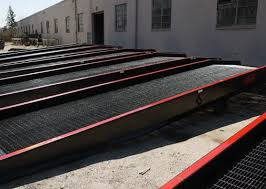Yard Ramp: (1, 56, 260, 187)
